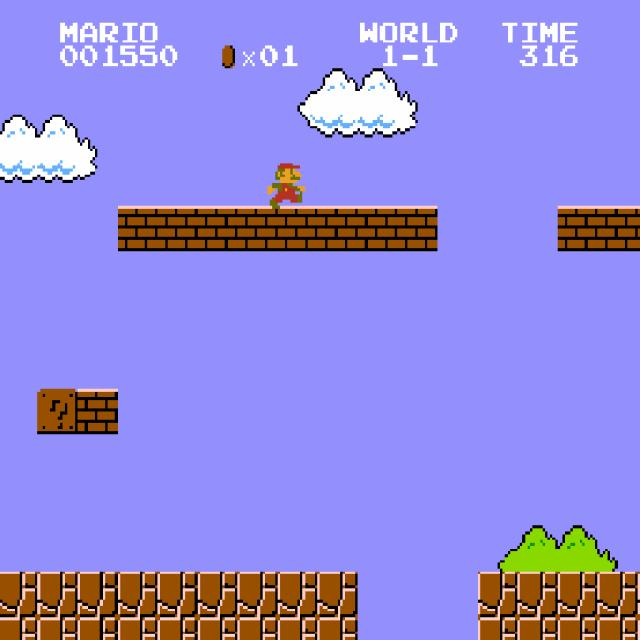brick_block: (77, 389, 118, 434), (117, 206, 158, 251), (157, 206, 198, 251), (197, 206, 238, 251), (237, 206, 278, 251), (277, 206, 318, 251), (317, 206, 358, 251), (357, 206, 398, 251), (397, 206, 438, 251), (557, 206, 598, 251), (597, 206, 638, 251), (637, 205, 640, 251)
little_mario: (265, 160, 308, 208)
mystery_block: (37, 389, 78, 434)
undestructible_block: (37, 572, 78, 617), (77, 572, 118, 617), (117, 572, 158, 617), (157, 572, 198, 617), (197, 572, 238, 617), (237, 572, 278, 617), (277, 572, 318, 617), (317, 572, 358, 617), (477, 572, 518, 617), (517, 572, 558, 617), (557, 572, 598, 617), (597, 572, 638, 617), (0, 572, 37, 617), (37, 617, 78, 640), (77, 617, 118, 640), (117, 617, 158, 640), (157, 617, 198, 640), (197, 617, 238, 640), (237, 617, 278, 640), (277, 617, 318, 640), (317, 617, 358, 640), (477, 617, 518, 640), (517, 617, 558, 640), (557, 617, 598, 640), (597, 617, 638, 640), (0, 617, 37, 640), (637, 571, 640, 617), (637, 617, 640, 639)
